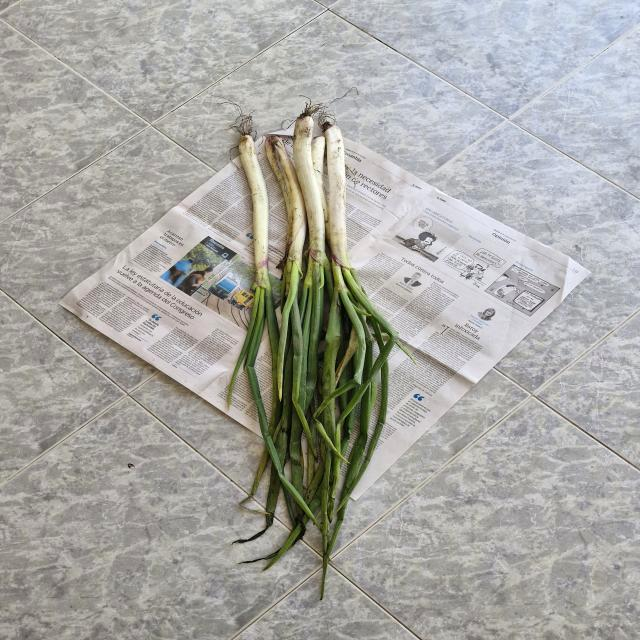green_onion: (289, 97, 364, 527), (223, 126, 292, 492)
